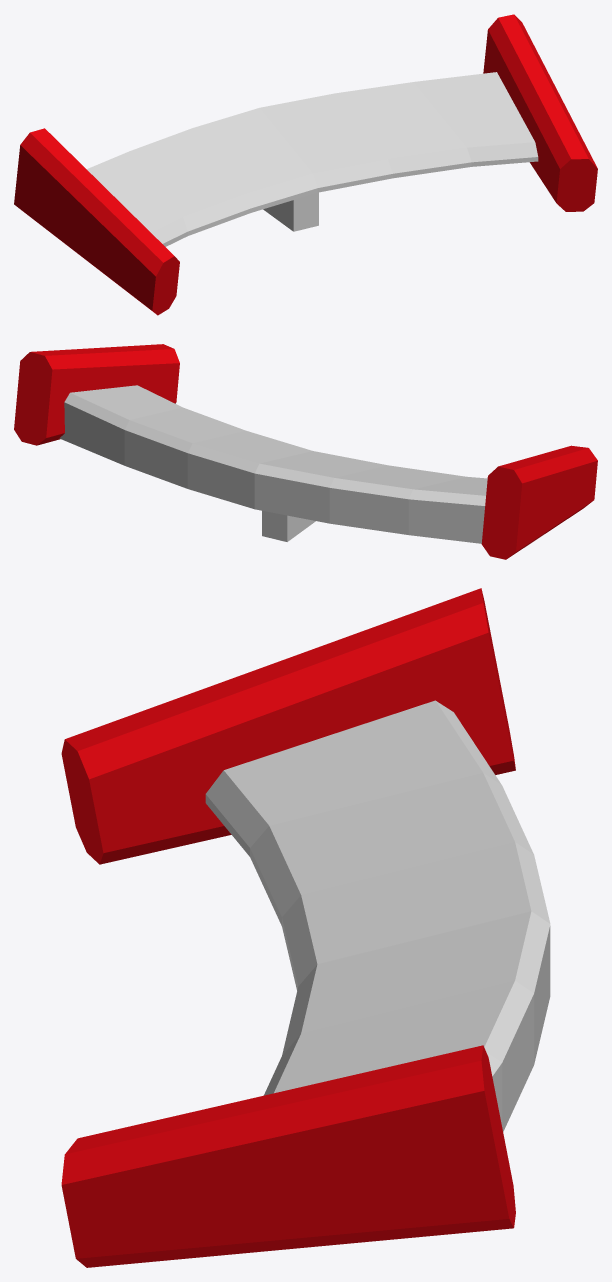
Rendered from WingsKart2.fbx.
The picture shows the model from 3 angles, top to bottom: view 1: azimuth 30°, elevation 25°; view 2: azimuth 150°, elevation 25°; view 3: azimuth 270°, elevation 25°; orthographic projection. The views are drawn at different scales.
Visible parts, largest first — view 1: WingsKart2; view 2: WingsKart2; view 3: WingsKart2.
Boxes of the visible parts, x1,y1,x2,y2 form: WingsKart2: (14, 14, 597, 315); WingsKart2: (14, 344, 597, 559); WingsKart2: (61, 588, 550, 1267).
Size of the model in its own units: 873 by 217 by 368.
